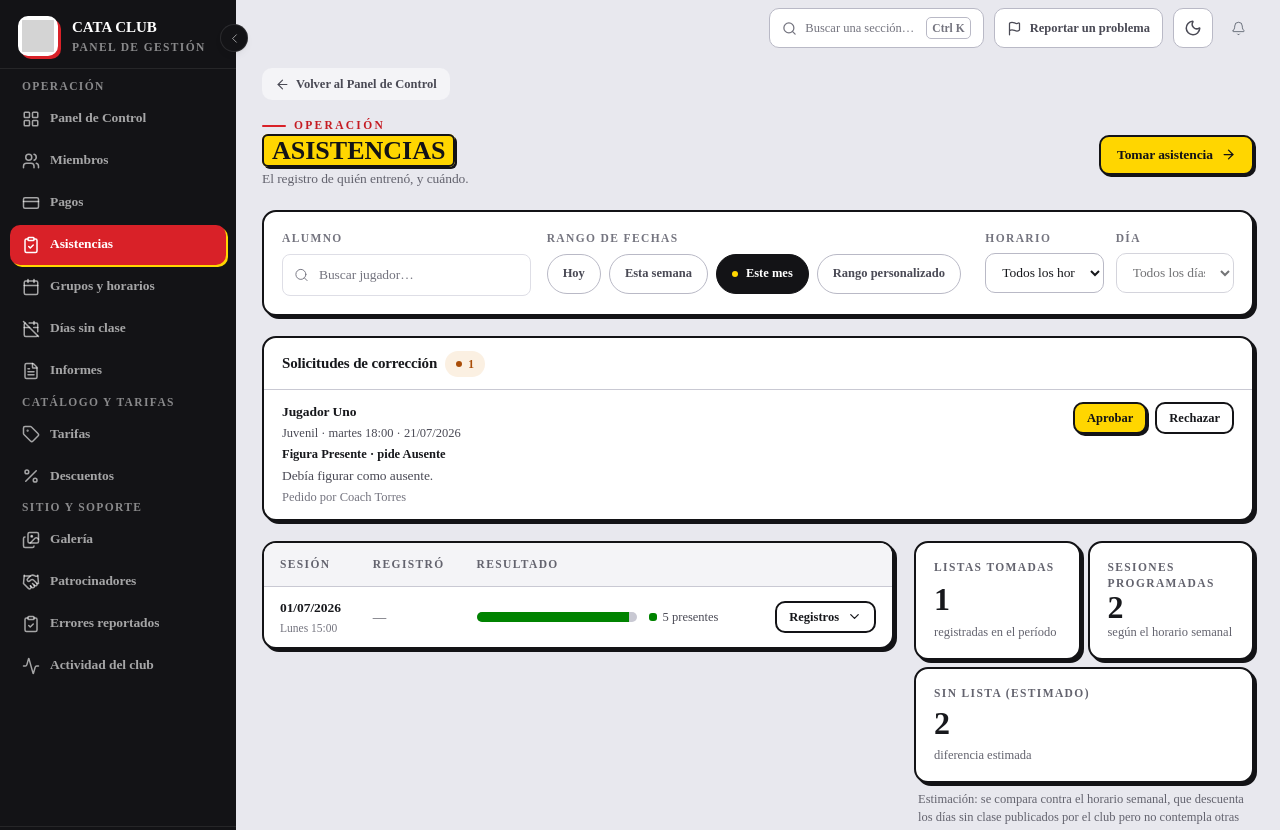
AttendancePage — filters reach the records endpoint › refuses to query an inverted custom range and says why
Click the button "Rango personalizado" at (889,274), box [817,254,961,294]
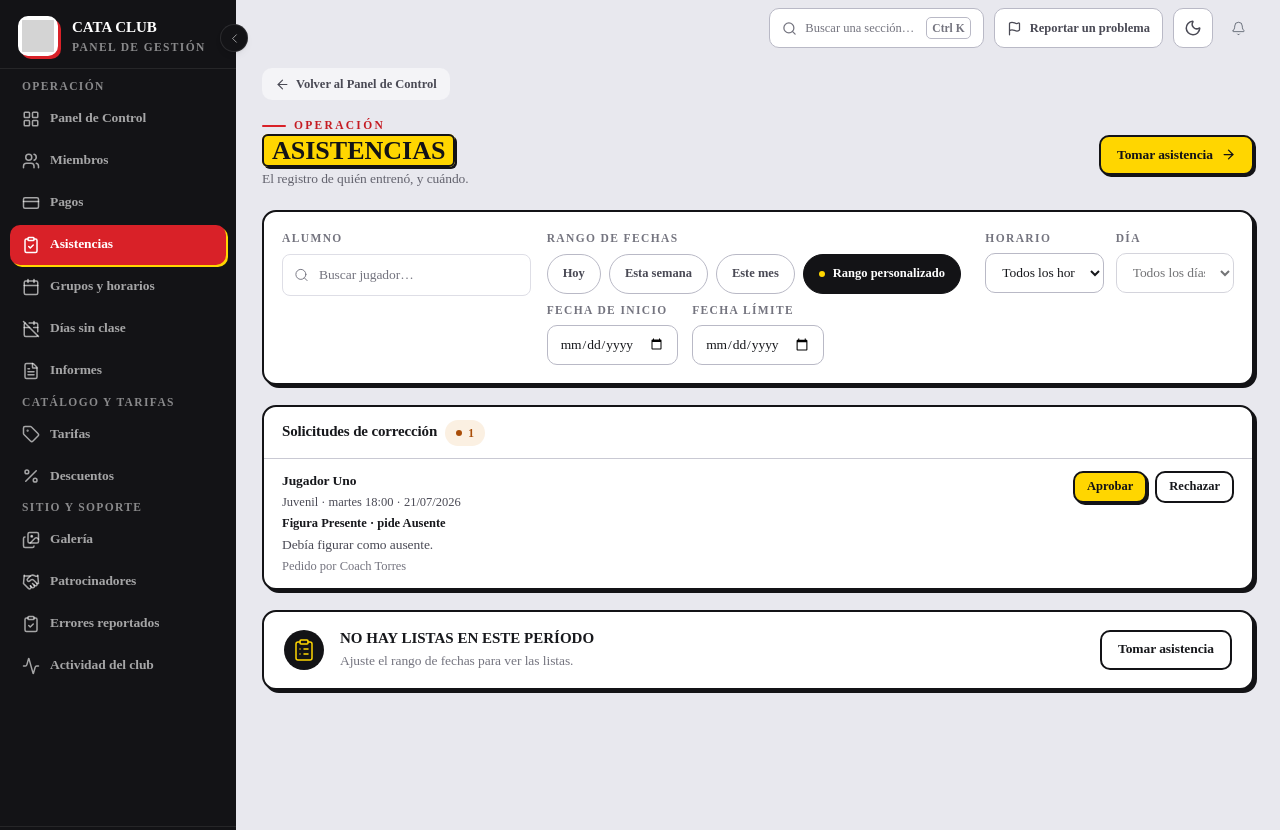
Type "2026-07-10" into the date field labelled "Fecha de inicio" at (612,345), box [547,325,678,365]
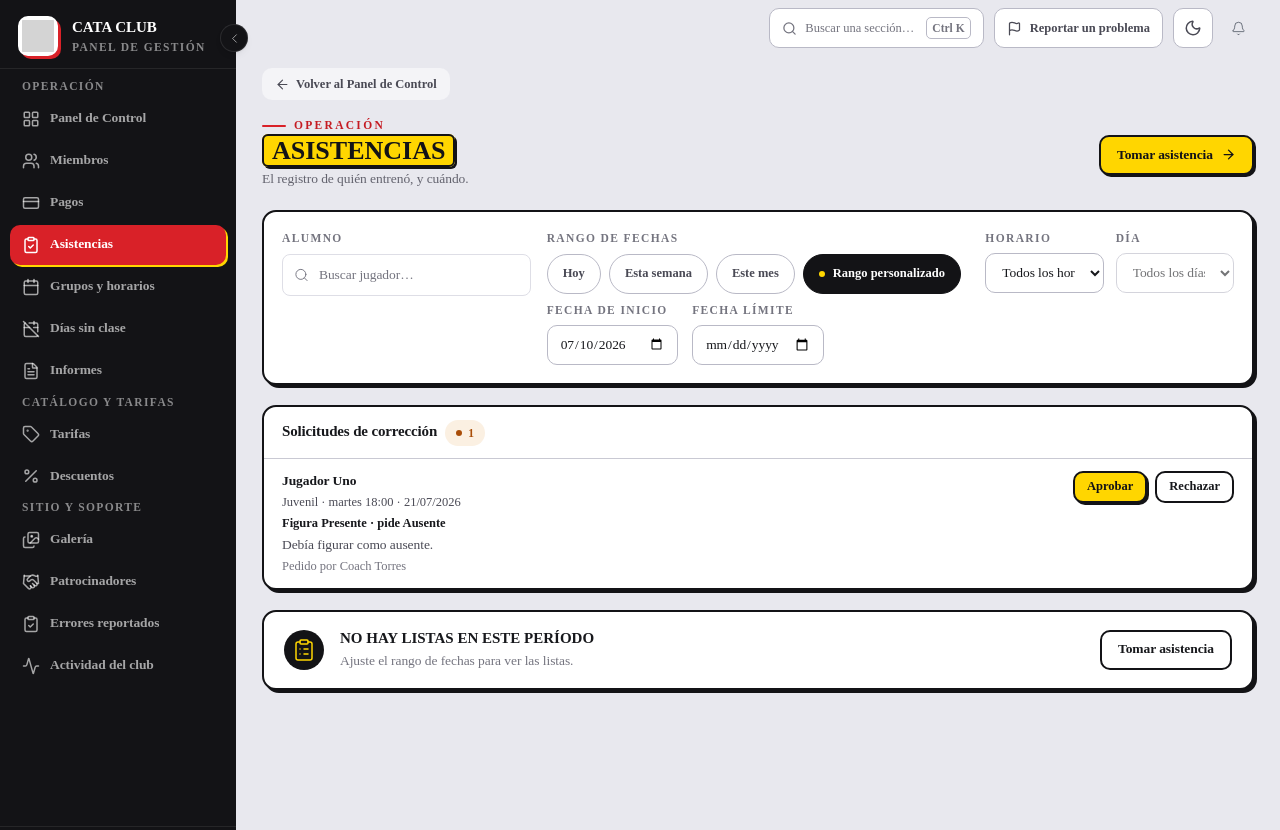
Type "2026-07-01" into the date field labelled "Fecha límite" at (758,345), box [692,325,824,365]
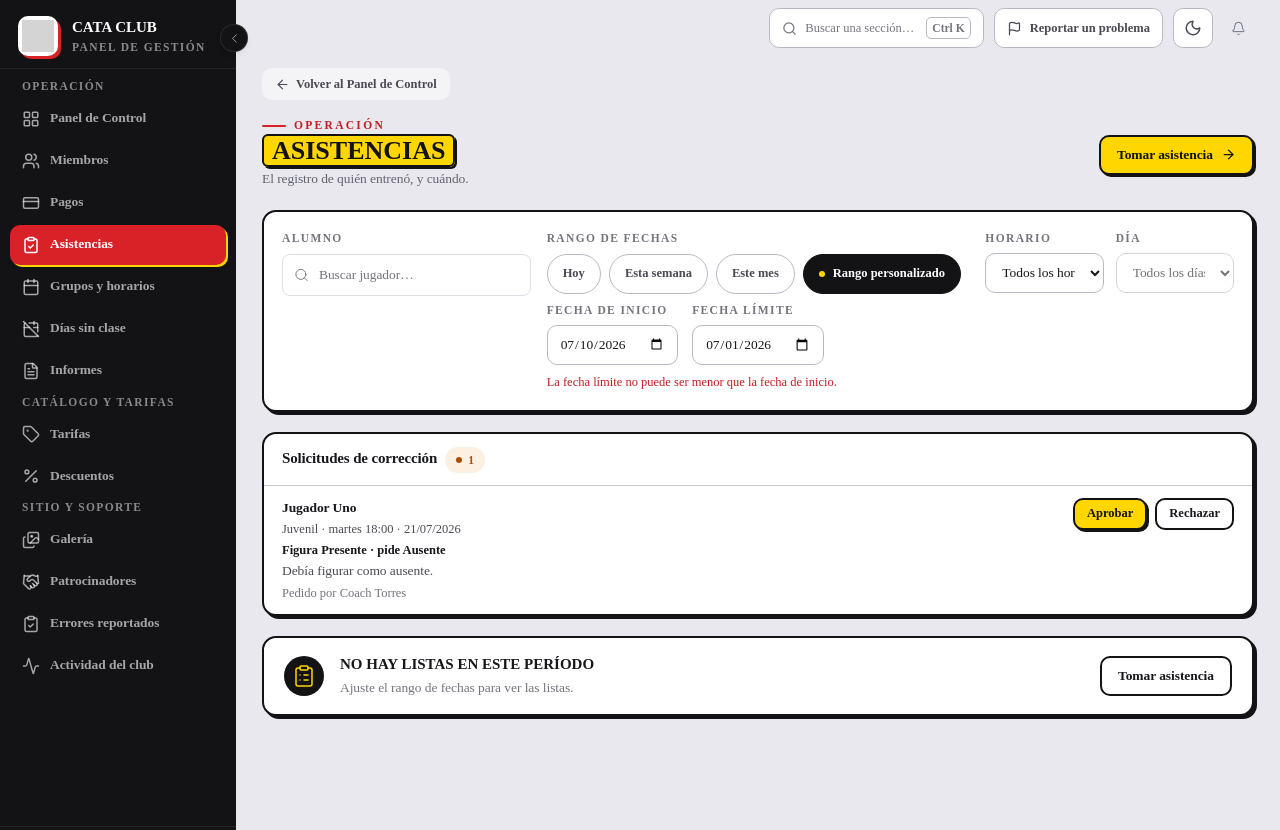
Check: the message reads "La fecha límite no puede ser menor que la fecha de inicio.", box [547,375,837,389]
